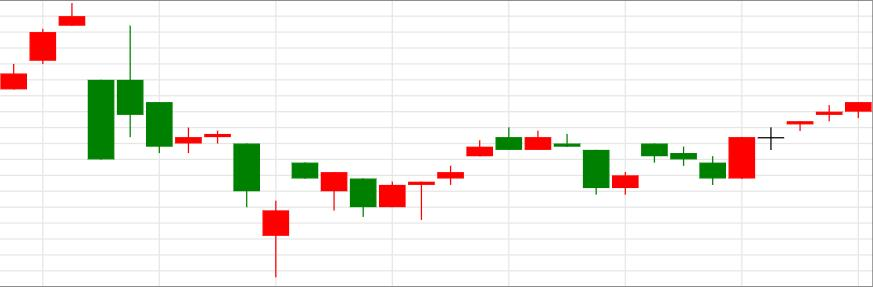hammer_rise: (117, 26, 289, 277)
